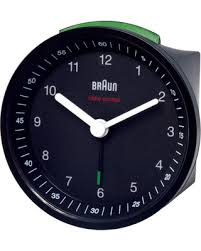alarm_clock: (2, 12, 199, 228), (2, 12, 199, 224), (2, 18, 199, 228)
